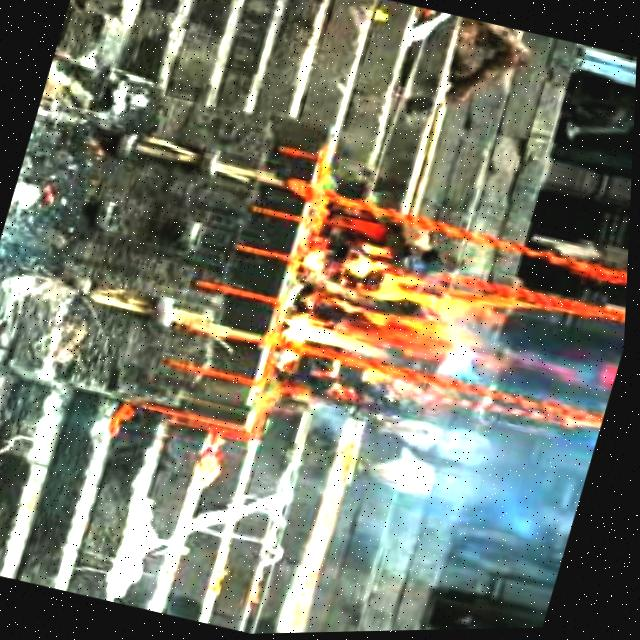Fire: (273, 245, 535, 399)
